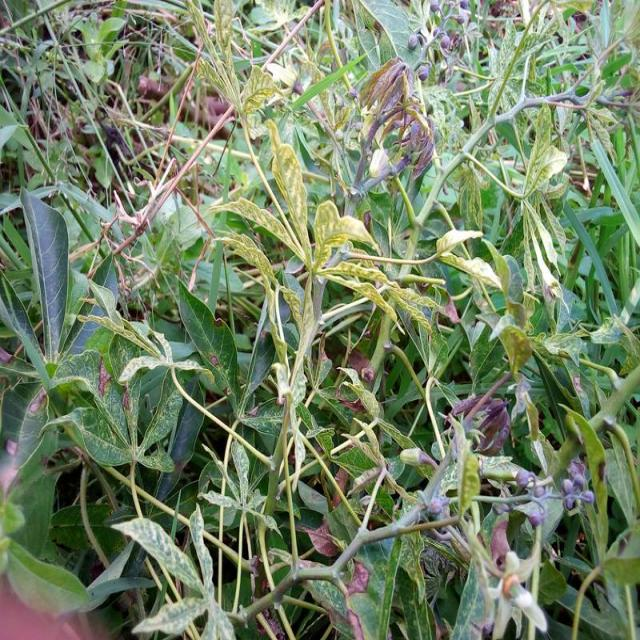cassava leaf: (0, 1, 638, 638), (19, 184, 70, 365)
